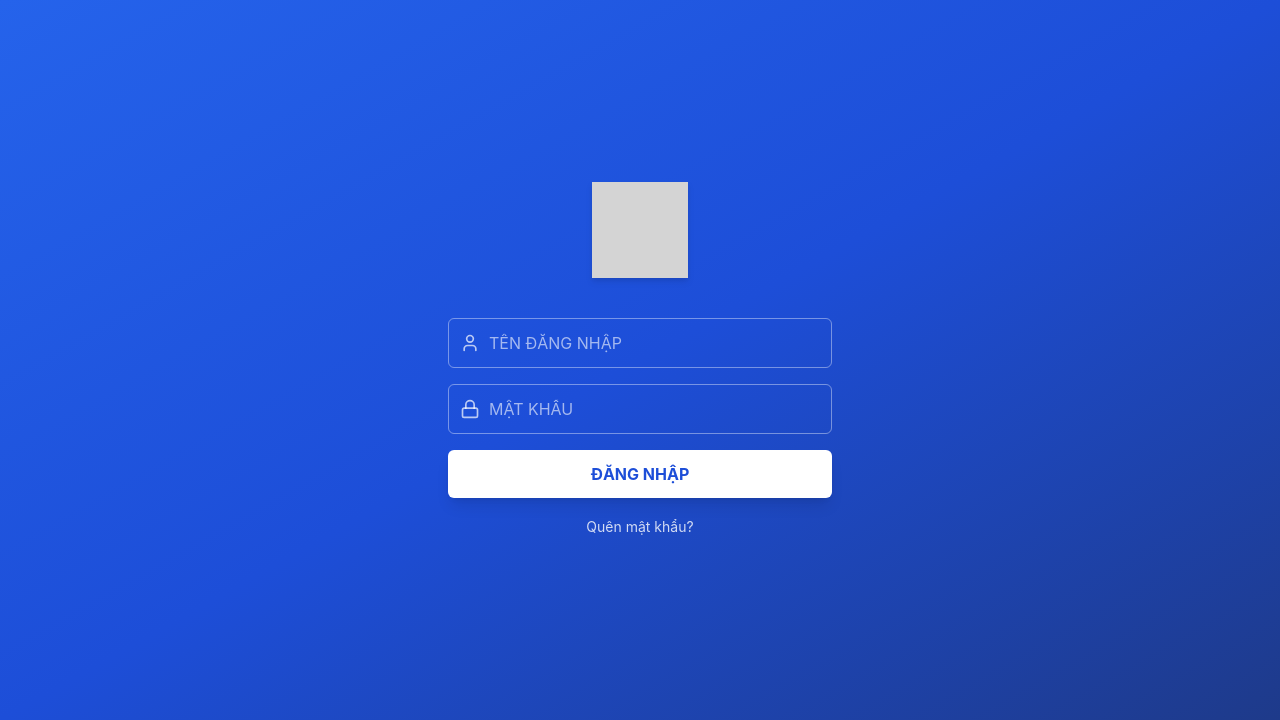
Auth Module › LoginPage › 6. Login response không có accessToken -> hiện lỗi
Type "admin" into the field with placeholder "TÊN ĐĂNG NHẬP". click: (640, 343)
box: left=448, top=318, right=832, bottom=368
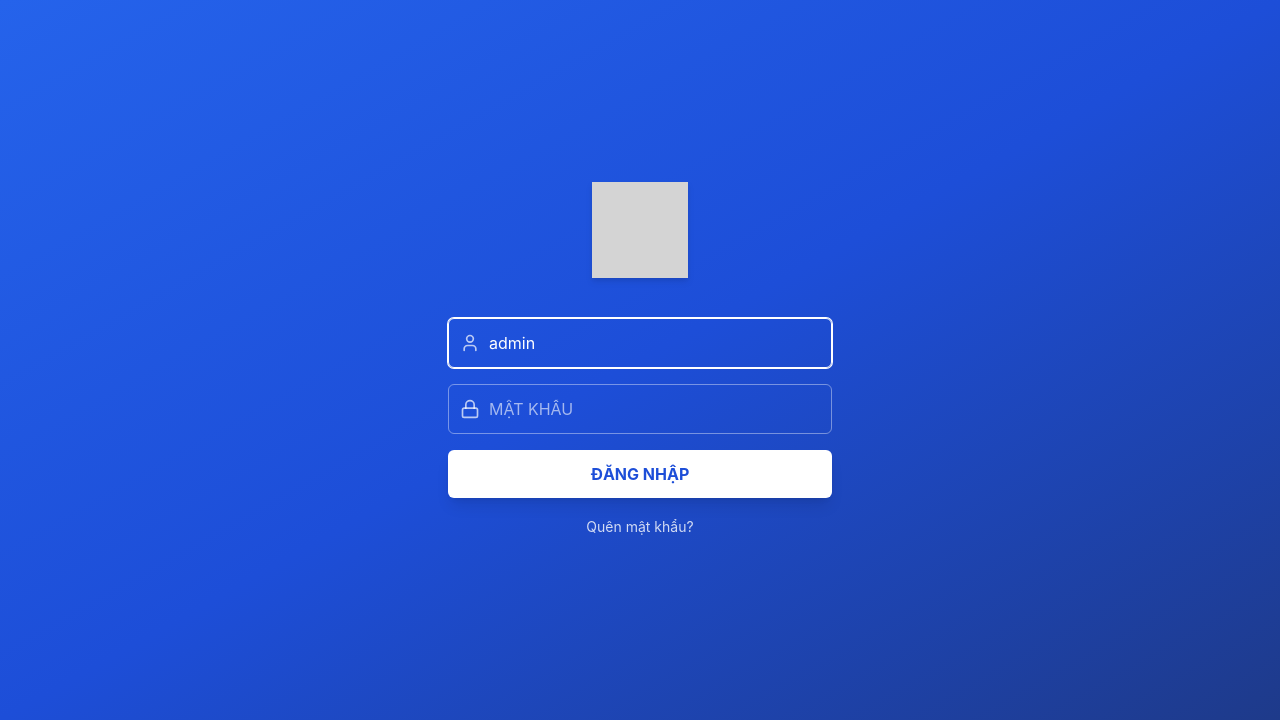
Type "123456" into the password field with placeholder "MẬT KHẨU". click: (640, 409)
box: left=448, top=384, right=832, bottom=434
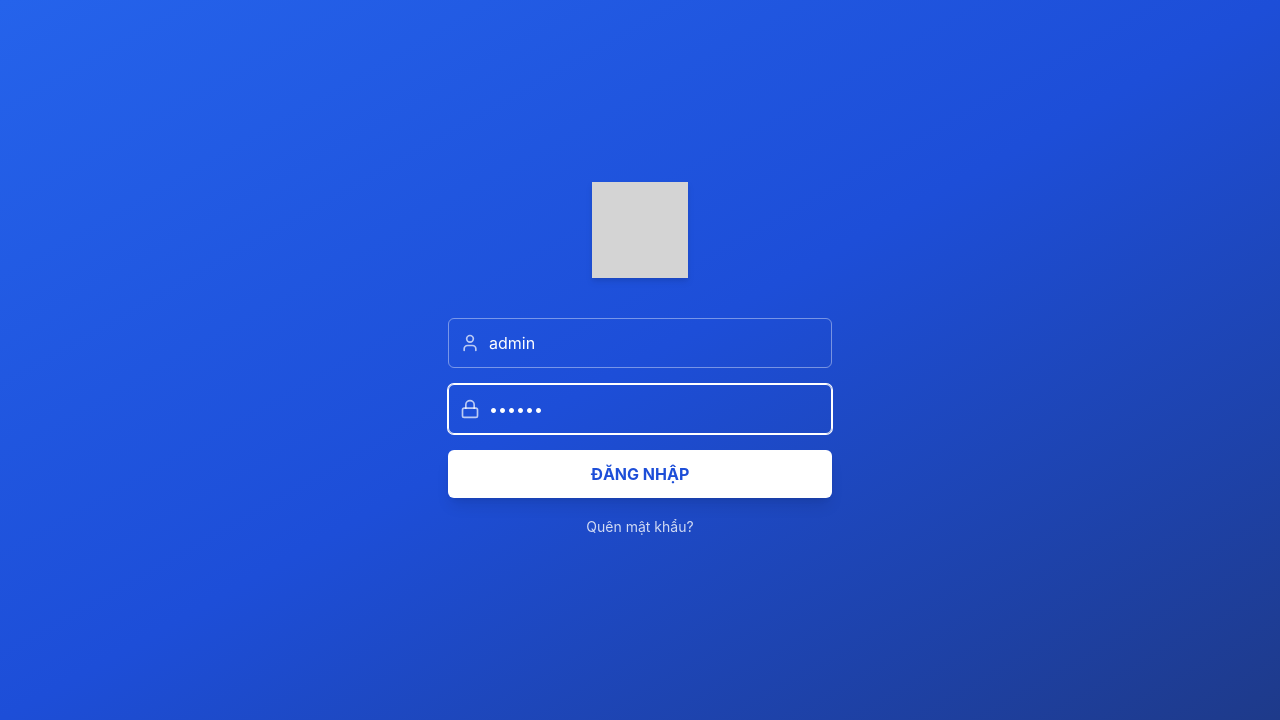
Click the button "ĐĂNG NHẬP". click: (640, 474)
box: left=448, top=450, right=832, bottom=498
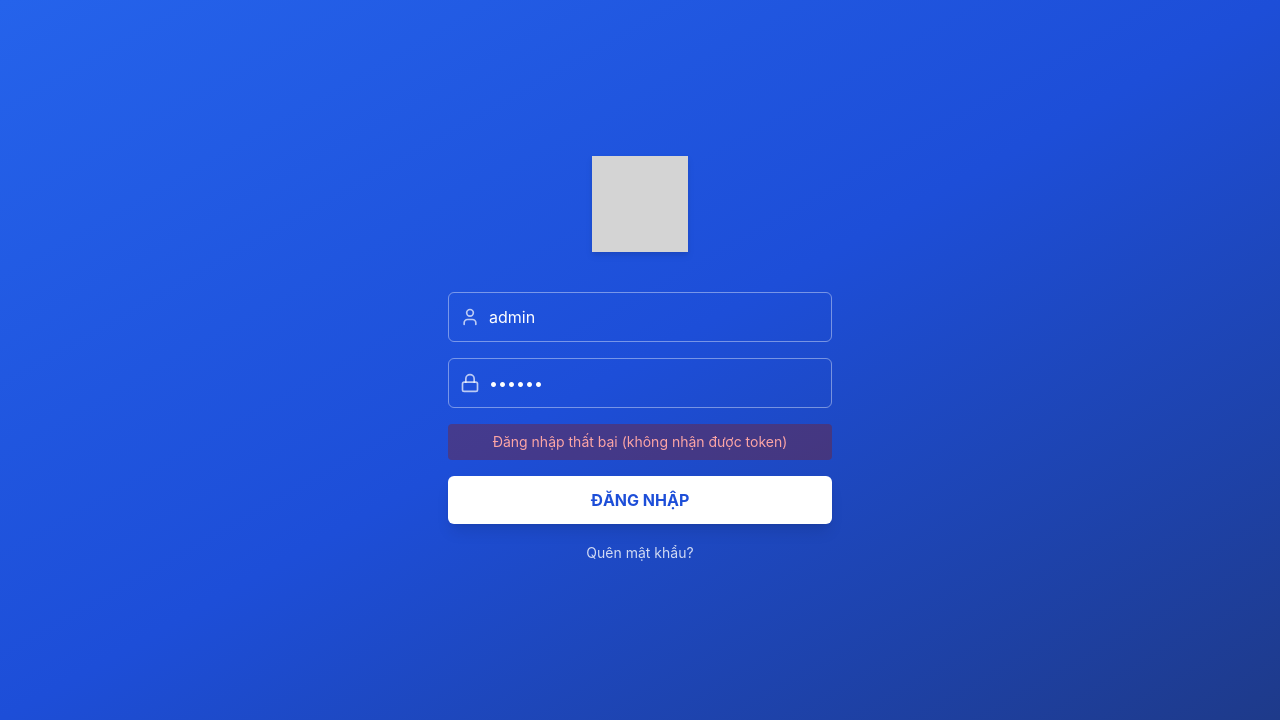
Check: the text "Đăng nhập thất bại (không nhận được token)" is shown, box left=448, top=424, right=832, bottom=460
